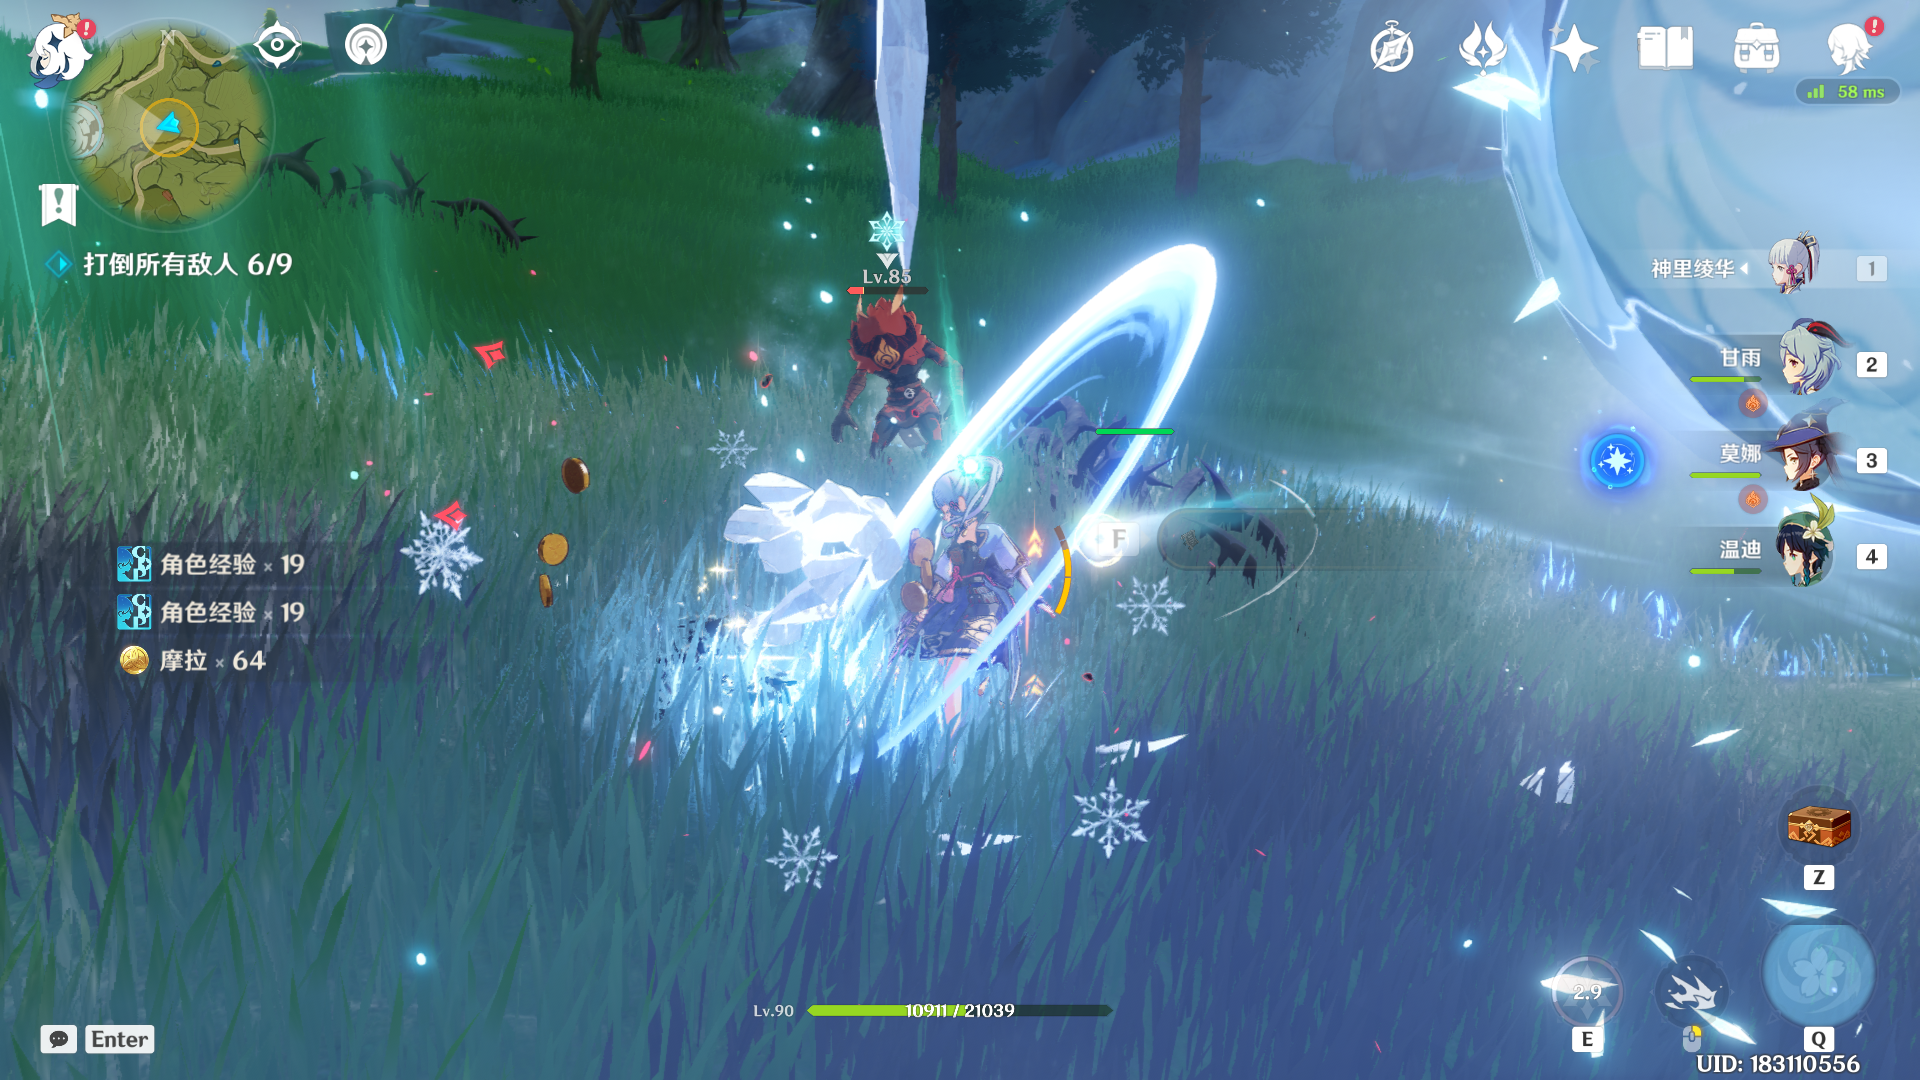character: (873, 436, 1083, 757)
hili: (798, 281, 975, 467)
